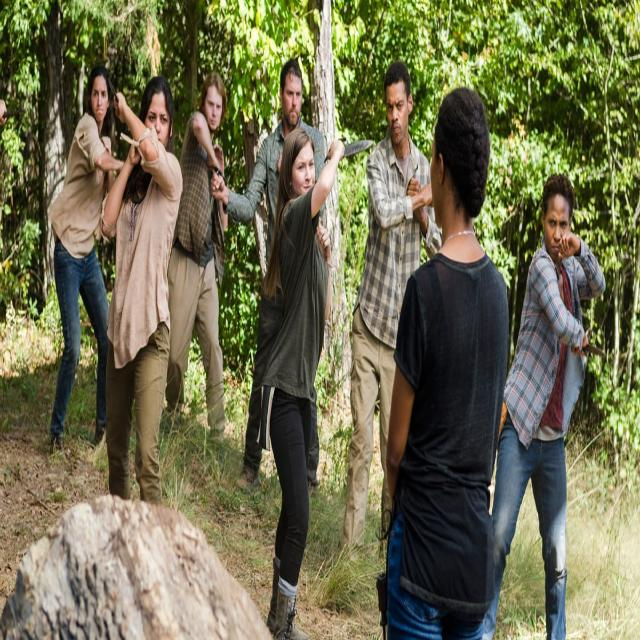body: (377, 82, 513, 639), (478, 167, 609, 639), (208, 52, 327, 502), (338, 58, 443, 565), (258, 120, 348, 639), (101, 73, 184, 508), (45, 61, 132, 463), (167, 72, 236, 448)
